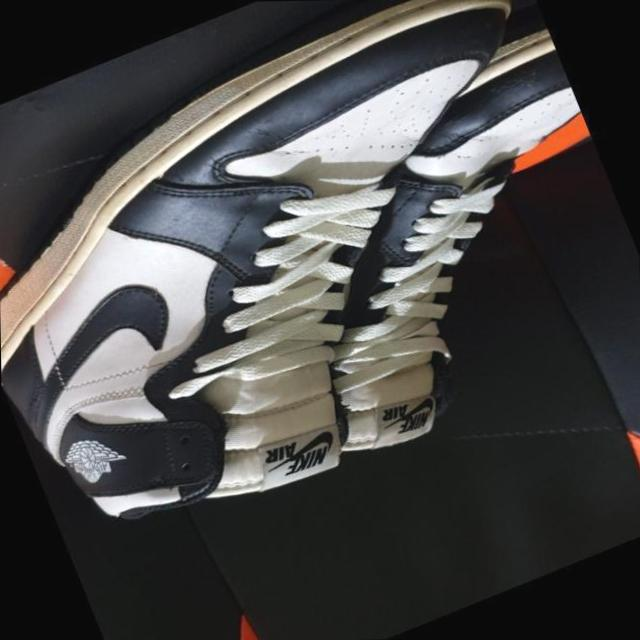nike_fake_jordan: (0, 0, 640, 570), (171, 26, 640, 487)
